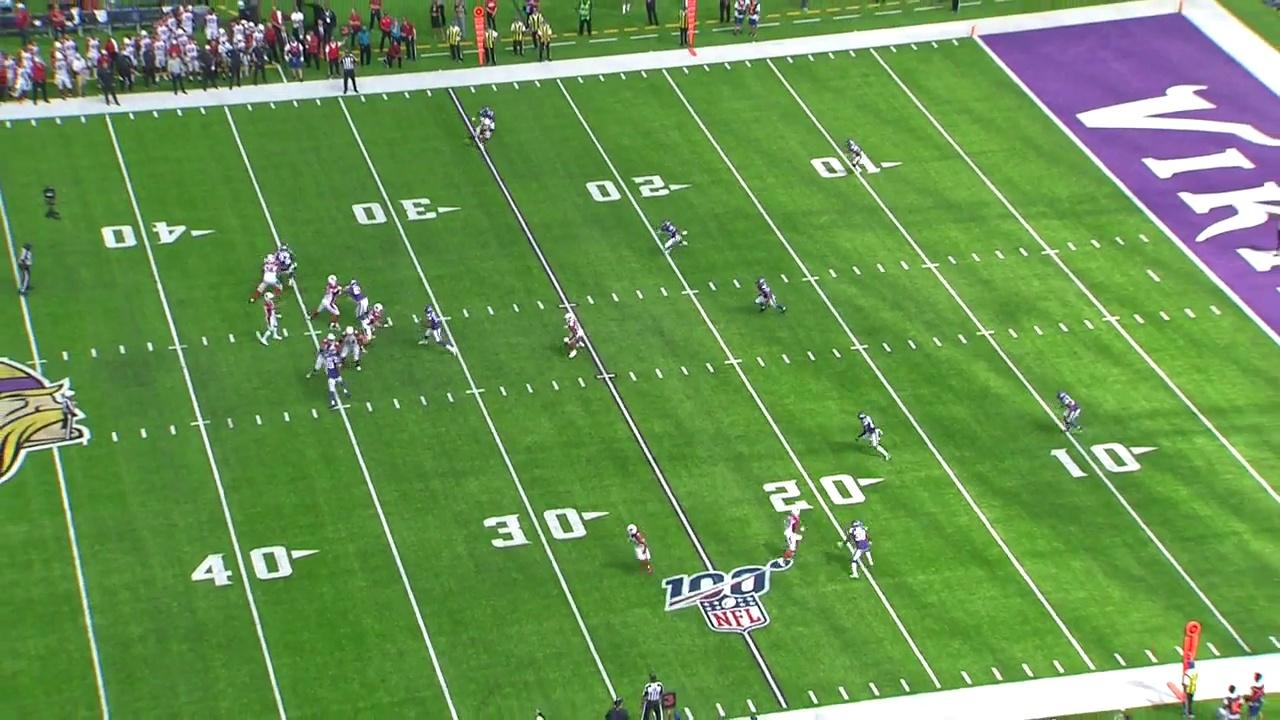player: (414, 300, 464, 358), (772, 502, 807, 565), (837, 518, 876, 574), (856, 409, 894, 464), (308, 273, 345, 324), (625, 519, 658, 576), (556, 308, 588, 359), (325, 351, 353, 406), (260, 291, 287, 343), (754, 277, 787, 317), (337, 323, 365, 368), (307, 335, 332, 379), (254, 253, 279, 295), (1058, 389, 1080, 436), (277, 244, 302, 285), (364, 301, 387, 345), (347, 274, 367, 320), (660, 223, 687, 254), (843, 136, 865, 174), (472, 118, 495, 150), (471, 102, 499, 121)
ref: (11, 240, 40, 310), (637, 667, 671, 720), (336, 50, 364, 98)
